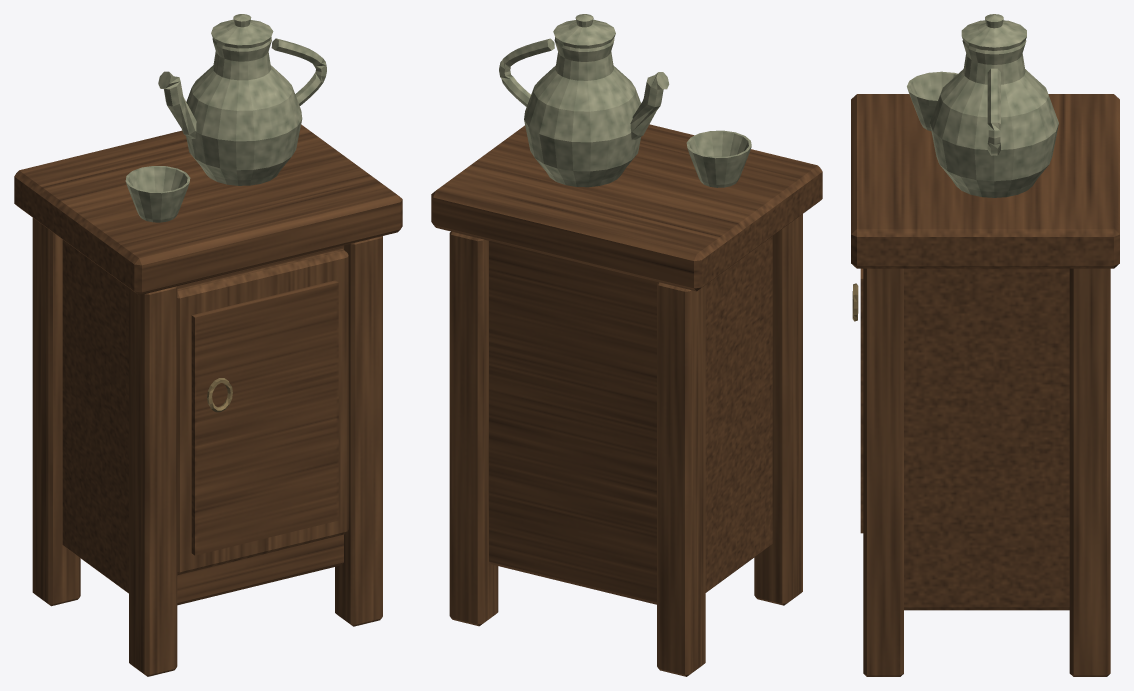
File: WakeTeaStand_LOD0.fbx
The picture shows the model from 3 angles, left to right: view 1: azimuth 30°, elevation 25°; view 2: azimuth 150°, elevation 25°; view 3: azimuth 270°, elevation 25°; orthographic projection. The views are drawn at different scales.
Parts seen in each view (by area): view 1: WakeTeaStand; view 2: WakeTeaStand; view 3: WakeTeaStand.
Boxes of the visible parts, bbox=[...] form: WakeTeaStand: bbox=[14, 14, 402, 676]; WakeTeaStand: bbox=[431, 14, 822, 676]; WakeTeaStand: bbox=[851, 14, 1119, 676].
Bounding box in the file's own units: 0.446 × 0.923 × 0.362.
1 material, 1 textured.
